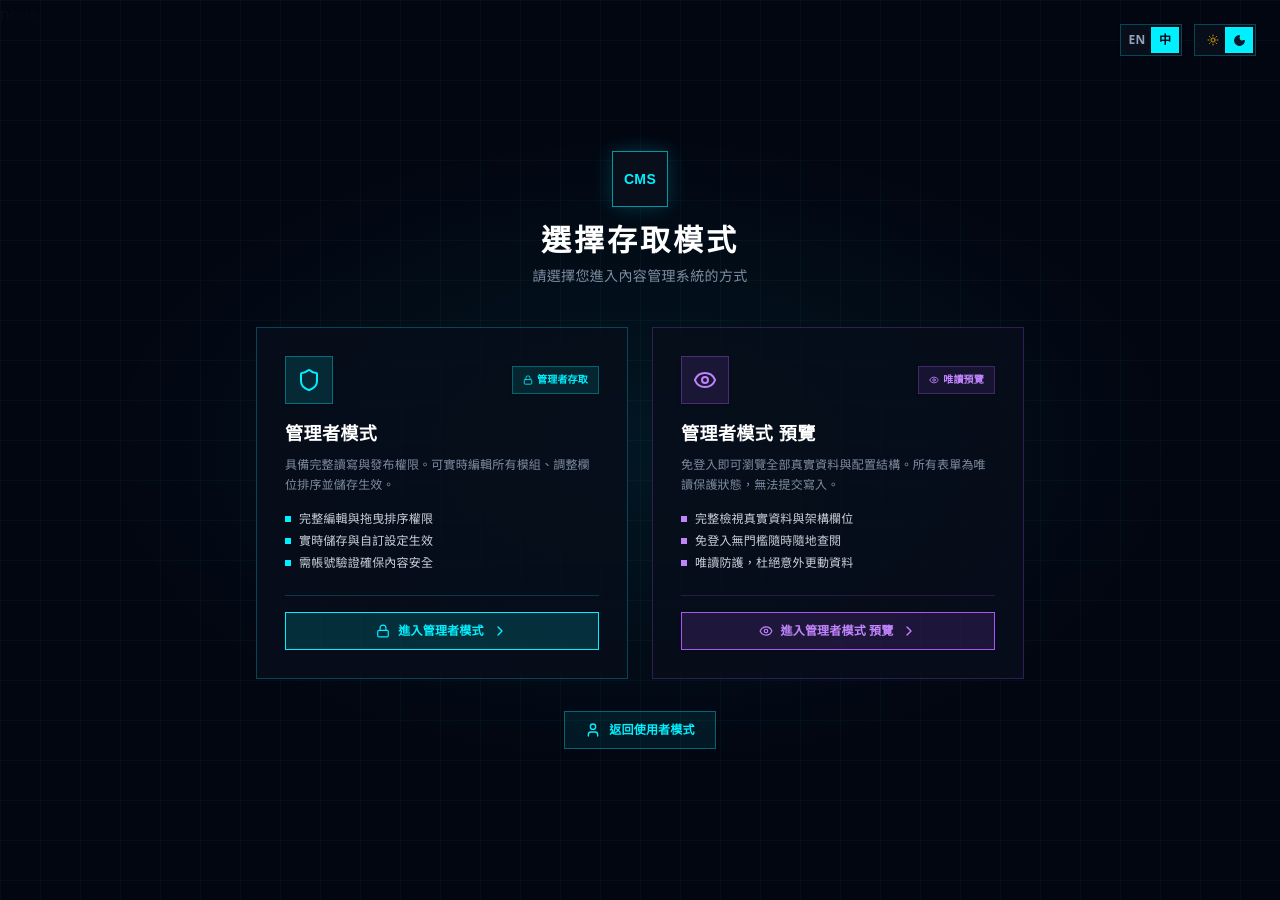
Test: CMS 模式選擇畫面測試 (CmsModeSelectDialog) › 點擊「進入管理者模式」卡片按鈕，展開帳號密碼登入表單
Click the button "進入管理者模式" at [442, 631], box [285,612,599,650]
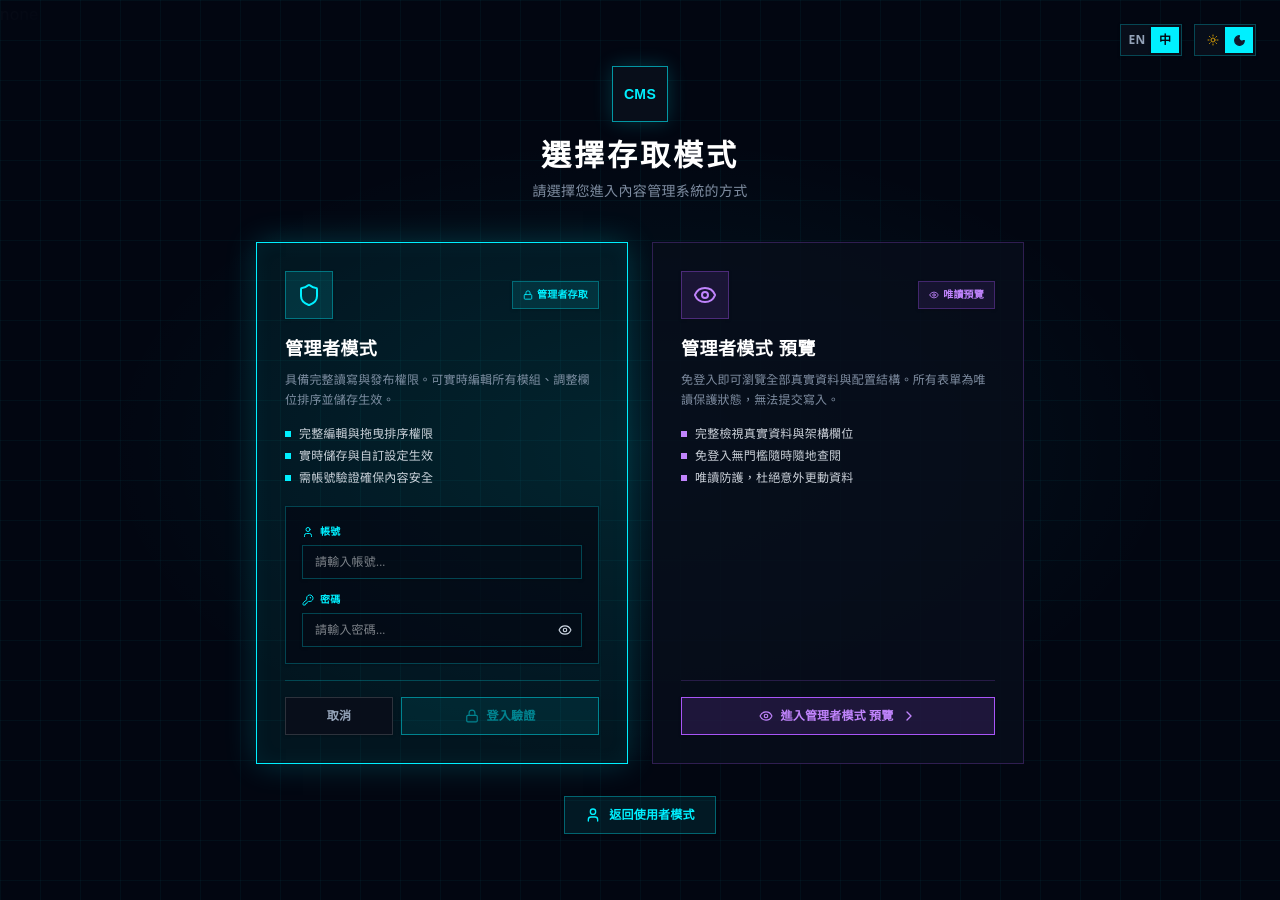
Now the field with placeholder "請輸入帳號..." is shown, box [302,545,582,579]
Now the password field with placeholder "請輸入密碼..." is shown, box [302,613,582,647]
Now the text "登入驗證" is shown, box [487,708,535,724]
